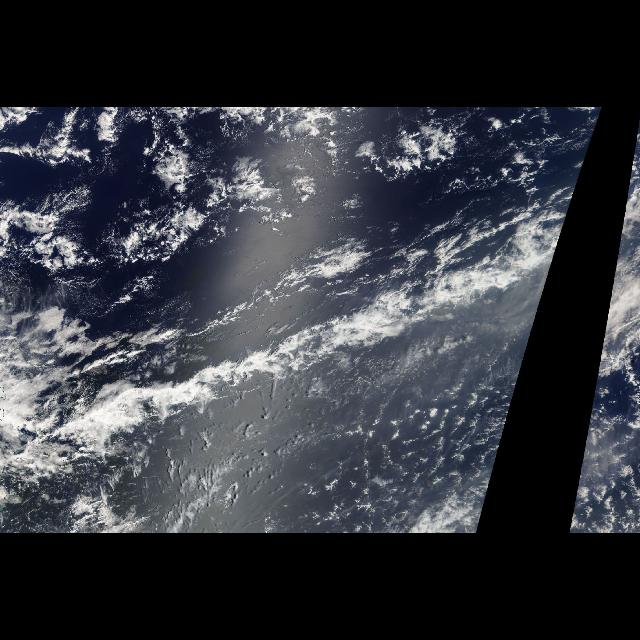Fish: (0, 186, 578, 484), (578, 186, 634, 484)
Gravel: (350, 375, 520, 499), (573, 375, 633, 499)
